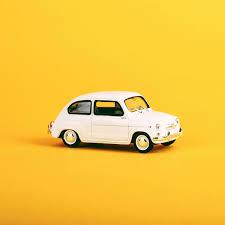car: (49, 91, 182, 154)
